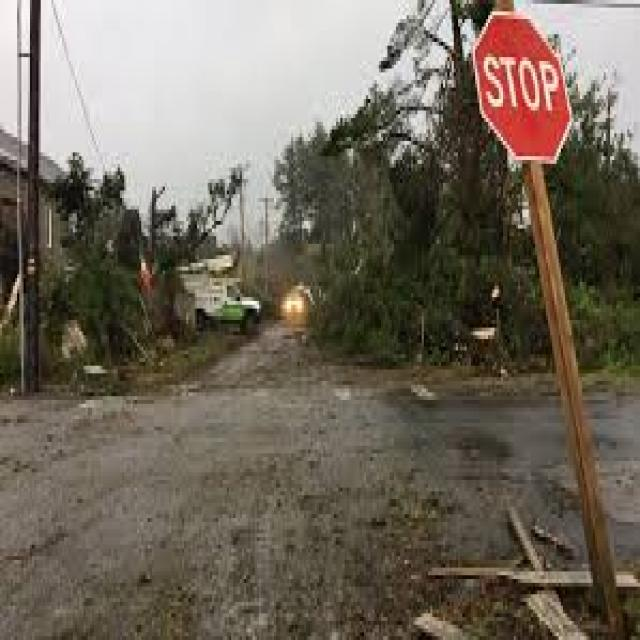stop-sign: (471, 24, 593, 134)
